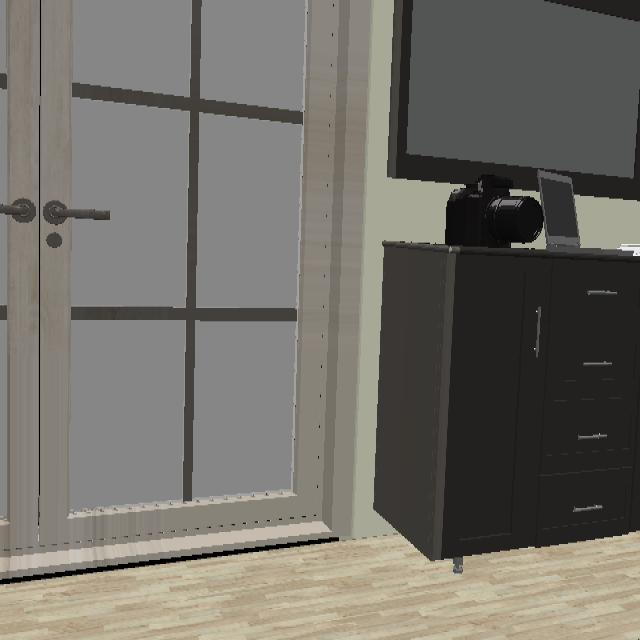cabinet: (374, 244, 640, 559)
laptop: (538, 171, 631, 257)
